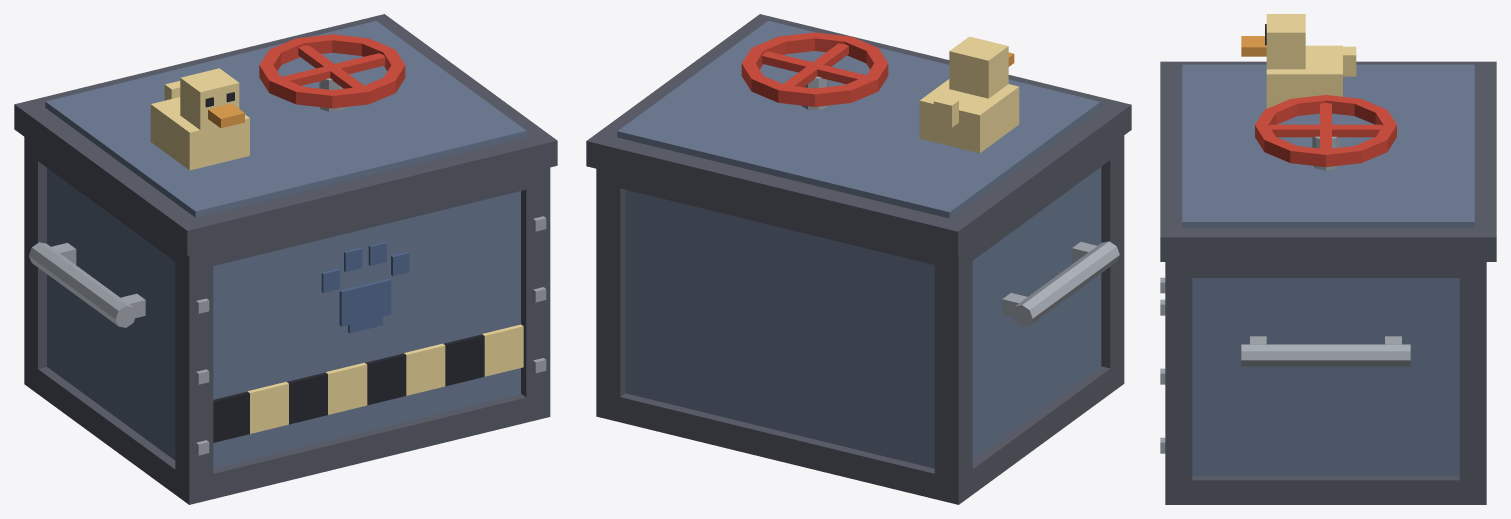
File: CatCafe_Prop_Crate_Sewer.glb
3 renders of one model, left to right at view 1: azimuth 30°, elevation 25°; view 2: azimuth 150°, elevation 25°; view 3: azimuth 270°, elevation 25°, orthographic. The views are drawn at different scales.
Visible parts, largest first — view 1: CatCafe_Prop_Crate_Sewer, CatCafe_Prop_Crate_Sewer_Lid; view 2: CatCafe_Prop_Crate_Sewer, CatCafe_Prop_Crate_Sewer_Lid; view 3: CatCafe_Prop_Crate_Sewer, CatCafe_Prop_Crate_Sewer_Lid.
Part boxes in pixels (bbox=[...]): CatCafe_Prop_Crate_Sewer: bbox=[24, 137, 550, 504]; CatCafe_Prop_Crate_Sewer_Lid: bbox=[14, 14, 557, 255]; CatCafe_Prop_Crate_Sewer: bbox=[596, 135, 1124, 504]; CatCafe_Prop_Crate_Sewer_Lid: bbox=[586, 14, 1131, 256]; CatCafe_Prop_Crate_Sewer: bbox=[1160, 262, 1486, 504]; CatCafe_Prop_Crate_Sewer_Lid: bbox=[1160, 14, 1496, 261].
Bounding box in the file's own units: 2.86 × 2.28 × 1.99.
Materials: 1 (1 with a texture image).
